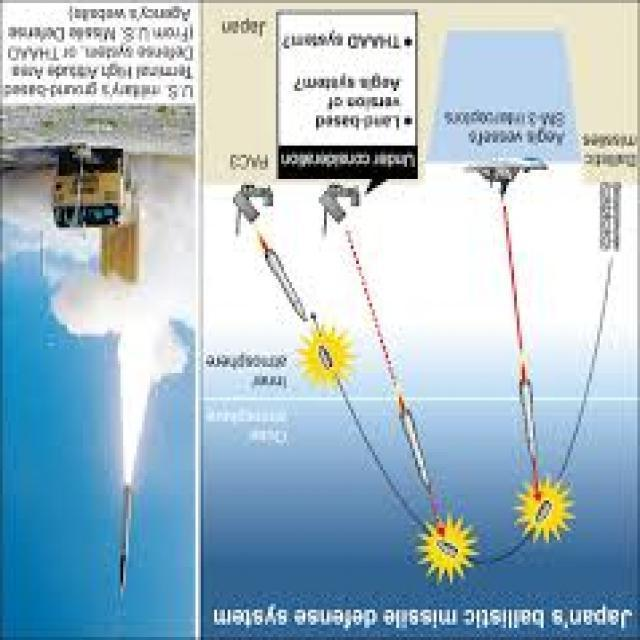Missile: (114, 479, 140, 599)
